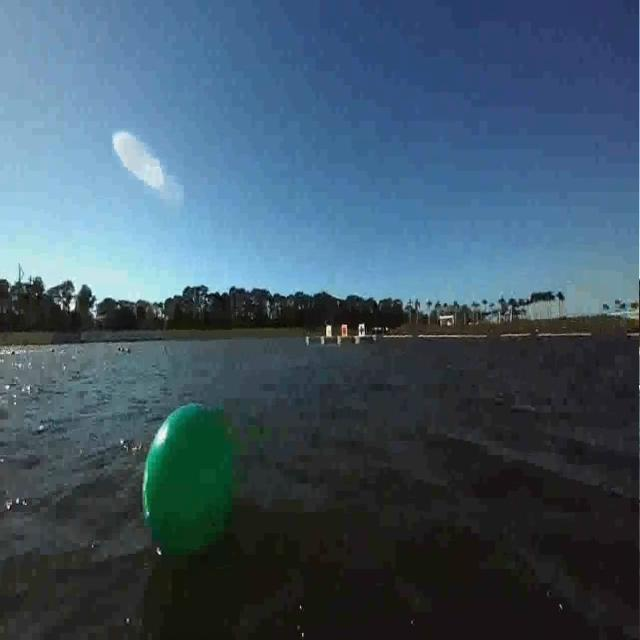green-buoy: (140, 398, 240, 564)
